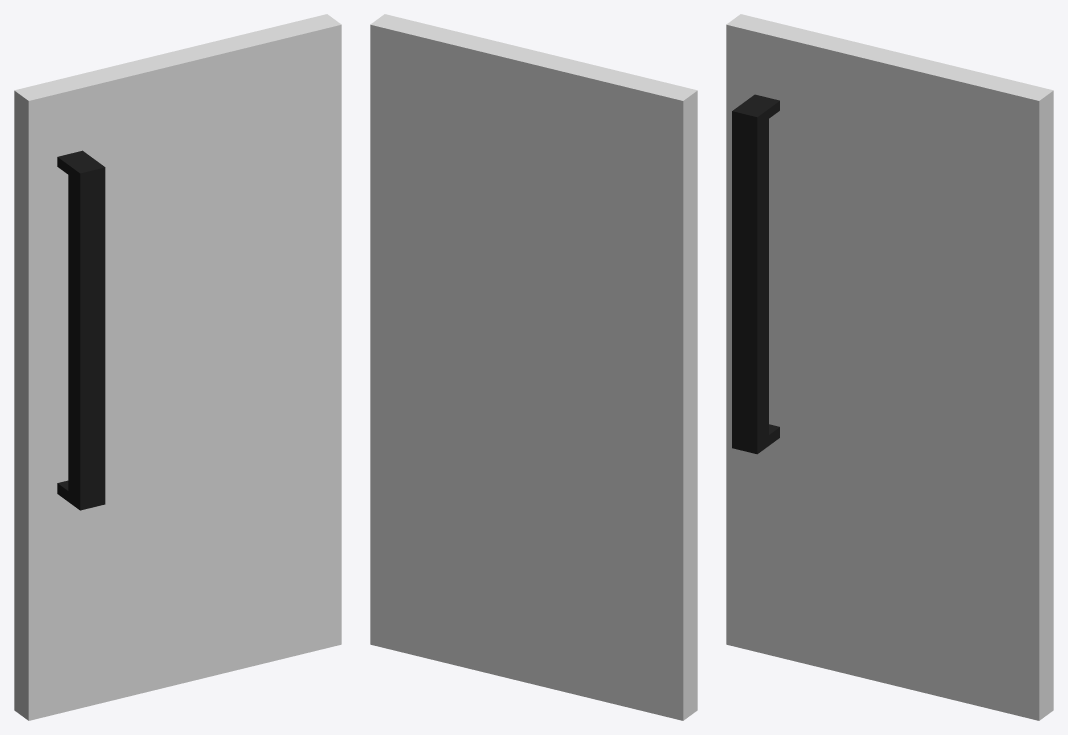
File: AFRIDGE1.obj
3 renders of one model, left to right at view 1: azimuth 30°, elevation 25°; view 2: azimuth 150°, elevation 25°; view 3: azimuth 330°, elevation 25°, orthographic.
Visible parts, largest first — view 1: user; view 2: user; view 3: user.
Part boxes in pixels (box(x1,y1,x2,y2)): user: box(14, 14, 341, 720); user: box(370, 14, 697, 720); user: box(726, 14, 1053, 720).
Size of the model in its own units: 56.7 by 107 by 11.71.
2 materials, 2 textured.
